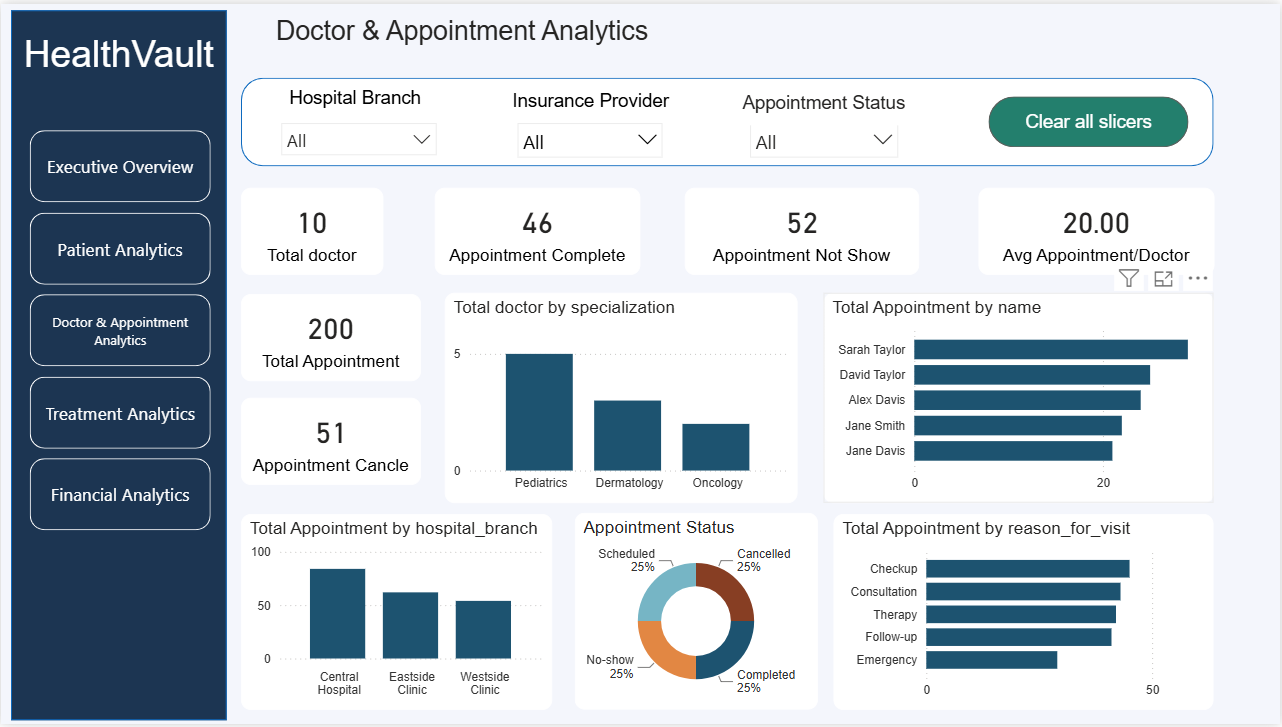

The dashboard page shown, as its layout file describes it:
{"tool":"powerbi","page":{"name":"Doctor & Appointment Analytics","canvas":[1280,720],"ordinal":2},"visuals":[{"type":"shape","box":[10,5.7,215.7,710],"z":0},{"type":"textbox","box":[9.9,23.9,215.5,63.4],"z":1000},{"type":"pageNavigator","box":[28.6,125.7,181.4,400],"z":2000},{"type":"textbox","box":[270.5,7.6,400.1,48.3],"z":3000},{"type":"shape","box":[240.6,73.9,972.5,88.4],"z":4000},{"type":"actionButton","box":[987,92.8,200,50.7],"z":5000},{"type":"card","fields":{"Values":["doctor_measure.Total doctor"]},"box":[240,184.3,142,87],"z":6000},{"type":"card","fields":{"Values":["appointment_measure.Total Appointment"]},"box":[240,290,180,87.1],"z":7000},{"type":"card","fields":{"Values":["doctor_measure.Appointment Complete"]},"box":[434.3,184.3,205.7,87.1],"z":8000},{"type":"card","fields":{"Values":["appointment_measure.Avg Appointment/Doctor"]},"box":[977.1,184.3,235.7,87.1],"z":9000},{"type":"card","fields":{"Values":["doctor_measure.Appointment Cancle"]},"box":[240,394.3,180,87.1],"z":10000},{"type":"card","fields":{"Values":["appointment_measure.Appointment Not Show"]},"box":[684.3,184.3,234.3,87.1],"z":11000},{"type":"donutChart","title":"Appointment Status","fields":{"Category":["appointments.status"],"Y":["CountNonNull(patients.patient_id)"]},"box":[574.3,508.6,242.9,197.1],"z":12000},{"type":"columnChart","fields":{"Category":["doctors.specialization"],"Y":["doctor_measure.Total doctor"]},"box":[444.3,288.6,352.9,210],"z":13000},{"type":"columnChart","fields":{"Category":["doctors.hospital_branch"],"Y":["appointment_measure.Total Appointment"]},"box":[240,510,311.4,195.7],"z":14000},{"type":"clusteredBarChart","fields":{"Category":["appointments.reason_for_visit"],"Y":["appointment_measure.Total Appointment"]},"box":[832.9,510,380,195.7],"z":15000},{"type":"textbox","box":[262.5,78.8,182.6,42],"z":16000},{"type":"textbox","box":[505.6,80.6,178.3,37.7],"z":17000},{"type":"slicer","fields":{"Values":["doctors.hospital_branch"]},"box":[269.6,108.7,175.4,44.9],"z":18000},{"type":"slicer","fields":{"Values":["patients.insurance_provider"]},"box":[505.8,108.7,165.2,47.8],"z":19000},{"type":"slicer","fields":{"Values":["appointments.status"]},"box":[739.1,108.7,168.1,50.7],"z":20000},{"type":"textbox","box":[724.6,84.1,195.7,37.7],"z":21000},{"type":"clusteredBarChart","fields":{"Category":["doctors.name"],"Y":["appointment_measure.Total Appointment"]},"box":[822.9,288.6,390,210],"z":22000}]}

Visuals, with their boxes in screenshot pixels (x1, y1, x2, y2), scaled from the page's 1280x720 canvas onto the 1282x727 screenshot:
shape: Rect(10, 6, 226, 723)
textbox: Rect(10, 24, 226, 88)
pageNavigator: Rect(29, 127, 210, 531)
textbox: Rect(271, 8, 672, 56)
shape: Rect(241, 75, 1215, 164)
actionButton: Rect(989, 94, 1189, 145)
card - doctor_measure.Total doctor: Rect(240, 186, 383, 274)
card - appointment_measure.Total Appointment: Rect(240, 293, 421, 381)
card - doctor_measure.Appointment Complete: Rect(435, 186, 641, 274)
card - appointment_measure.Avg Appointment/Doctor: Rect(979, 186, 1215, 274)
card - doctor_measure.Appointment Cancle: Rect(240, 398, 421, 486)
card - appointment_measure.Appointment Not Show: Rect(685, 186, 920, 274)
"Appointment Status" donutChart: Rect(575, 514, 818, 713)
columnChart - doctors.specialization x doctor_measure.Total doctor: Rect(445, 291, 798, 503)
columnChart - doctors.hospital_branch x appointment_measure.Total Appointment: Rect(240, 515, 552, 713)
clusteredBarChart - appointments.reason_for_visit x appointment_measure.Total Appointment: Rect(834, 515, 1215, 713)
textbox: Rect(263, 80, 446, 122)
textbox: Rect(506, 81, 685, 119)
slicer - doctors.hospital_branch: Rect(270, 110, 446, 155)
slicer - patients.insurance_provider: Rect(507, 110, 672, 158)
slicer - appointments.status: Rect(740, 110, 909, 161)
textbox: Rect(726, 85, 922, 123)
clusteredBarChart - doctors.name x appointment_measure.Total Appointment: Rect(824, 291, 1215, 503)
